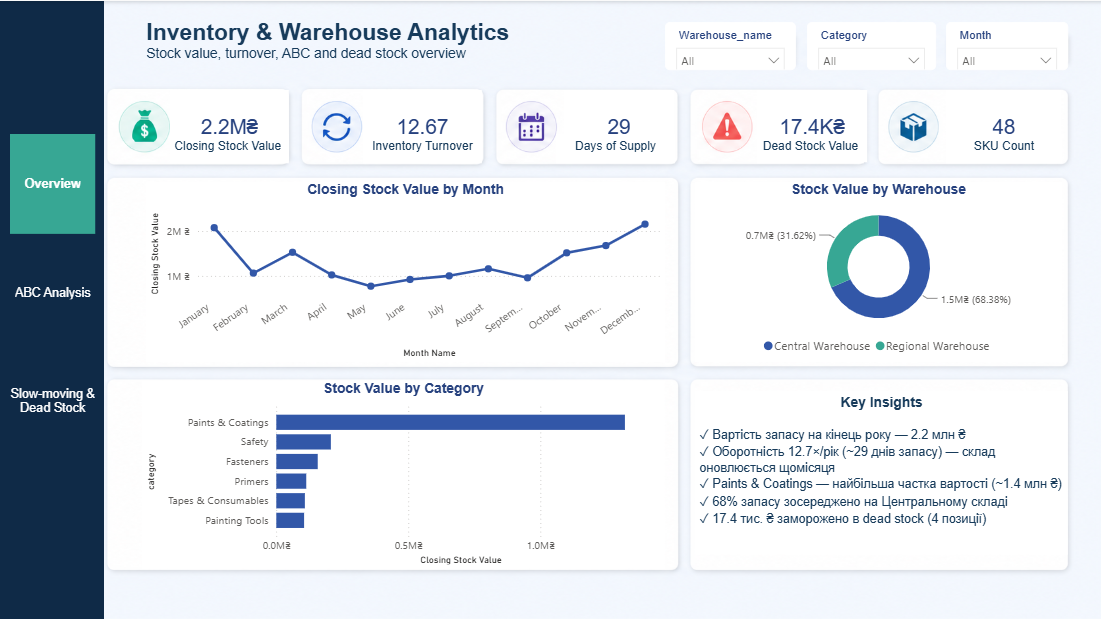

The dashboard page shown, as its layout file describes it:
{"tool":"powerbi","page":{"name":"Overview","canvas":[1280,720],"ordinal":0},"visuals":[{"type":"shape","box":[0,0,120.8,720.1],"z":0},{"type":"cardVisual","fields":{"Data":["My_measures.Closing Stock Value"]},"box":[197.5,103.4,138.2,84.8],"z":1000},{"type":"textbox","box":[164.9,16.3,442.5,63.9],"z":2000},{"type":"lineChart","title":"Closing Stock Value by Month","fields":{"Category":["Calendar.Month Name"],"Y":["My_measures.Closing Stock Value"]},"box":[169.6,210.2,602.8,209.1],"z":3000},{"type":"donutChart","title":"Stock Value by Warehouse","fields":{"Y":["My_measures.Closing Stock Value"],"Category":["Warehouses.warehouse_name"]},"box":[807.3,210.2,426.3,209.1],"z":4000},{"type":"clusteredBarChart","title":"Stock Value by Category","fields":{"Category":["Products.category"],"Y":["My_measures.Closing Stock Value"]},"box":[164.9,441.4,607.5,218.4],"z":5000},{"type":"slicer","fields":{"Values":["Products.category"]},"box":[937.4,24.4,149.8,55.8],"z":6000},{"type":"slicer","fields":{"Values":["Warehouses.warehouse_name"]},"box":[772.4,24.4,152.2,55.8],"z":7000},{"type":"pageNavigator","box":[11.6,154.5,99.9,370.5],"z":8000},{"type":"textbox","box":[807.3,453,433.2,190.5],"z":9000},{"type":"textbox","box":[197.5,154.5,138.2,33.7],"z":10000},{"type":"cardVisual","fields":{"Data":["My_measures.Inventory Turnover"]},"box":[421.6,103.4,138.2,84.8],"z":11000},{"type":"textbox","box":[421.6,154.5,138.2,33.7],"z":12000},{"type":"cardVisual","fields":{"Data":["My_measures.Days of Supply"]},"box":[655.1,103.4,128.9,84.8],"z":13000},{"type":"textbox","box":[645.8,154.5,138.2,33.7],"z":14000},{"type":"cardVisual","fields":{"Data":["My_measures.Dead Stock Value"]},"box":[879.3,103.4,128.9,84.8],"z":15000},{"type":"textbox","box":[879.3,154.5,124.3,33.7],"z":16000},{"type":"slicer","fields":{"Values":["Calendar.Month Name"]},"box":[1098.8,24.4,141.7,55.8],"z":17000},{"type":"cardVisual","fields":{"Data":["My_measures.SKU Count"]},"box":[1098.8,103.4,134.7,84.8],"z":18000},{"type":"textbox","box":[1098.8,154.5,134.7,33.7],"z":19000}]}

Visuals, with their boxes on the page's 1280x720 design canvas (x1, y1, x2, y2). These are canvas units, not pixel positions in the 1101x619 screenshot, which may show the page scaled, cropped or inside an application window:
shape: Rect(0, 0, 121, 720)
cardVisual - My_measures.Closing Stock Value: Rect(198, 103, 336, 188)
textbox: Rect(165, 16, 607, 80)
"Closing Stock Value by Month" lineChart: Rect(170, 210, 772, 419)
"Stock Value by Warehouse" donutChart: Rect(807, 210, 1234, 419)
"Stock Value by Category" clusteredBarChart: Rect(165, 441, 772, 660)
slicer - Products.category: Rect(937, 24, 1087, 80)
slicer - Warehouses.warehouse_name: Rect(772, 24, 925, 80)
pageNavigator: Rect(12, 154, 112, 525)
textbox: Rect(807, 453, 1240, 644)
textbox: Rect(198, 154, 336, 188)
cardVisual - My_measures.Inventory Turnover: Rect(422, 103, 560, 188)
textbox: Rect(422, 154, 560, 188)
cardVisual - My_measures.Days of Supply: Rect(655, 103, 784, 188)
textbox: Rect(646, 154, 784, 188)
cardVisual - My_measures.Dead Stock Value: Rect(879, 103, 1008, 188)
textbox: Rect(879, 154, 1004, 188)
slicer - Calendar.Month Name: Rect(1099, 24, 1240, 80)
cardVisual - My_measures.SKU Count: Rect(1099, 103, 1234, 188)
textbox: Rect(1099, 154, 1234, 188)
